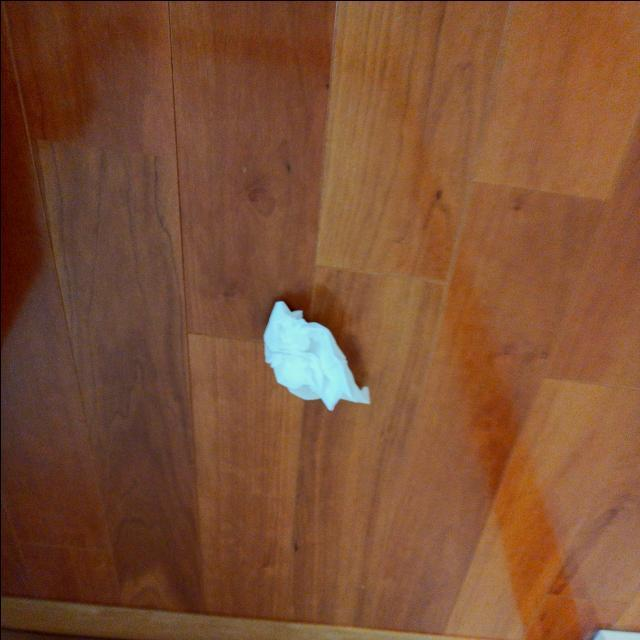Paper: (231, 284, 356, 415)
